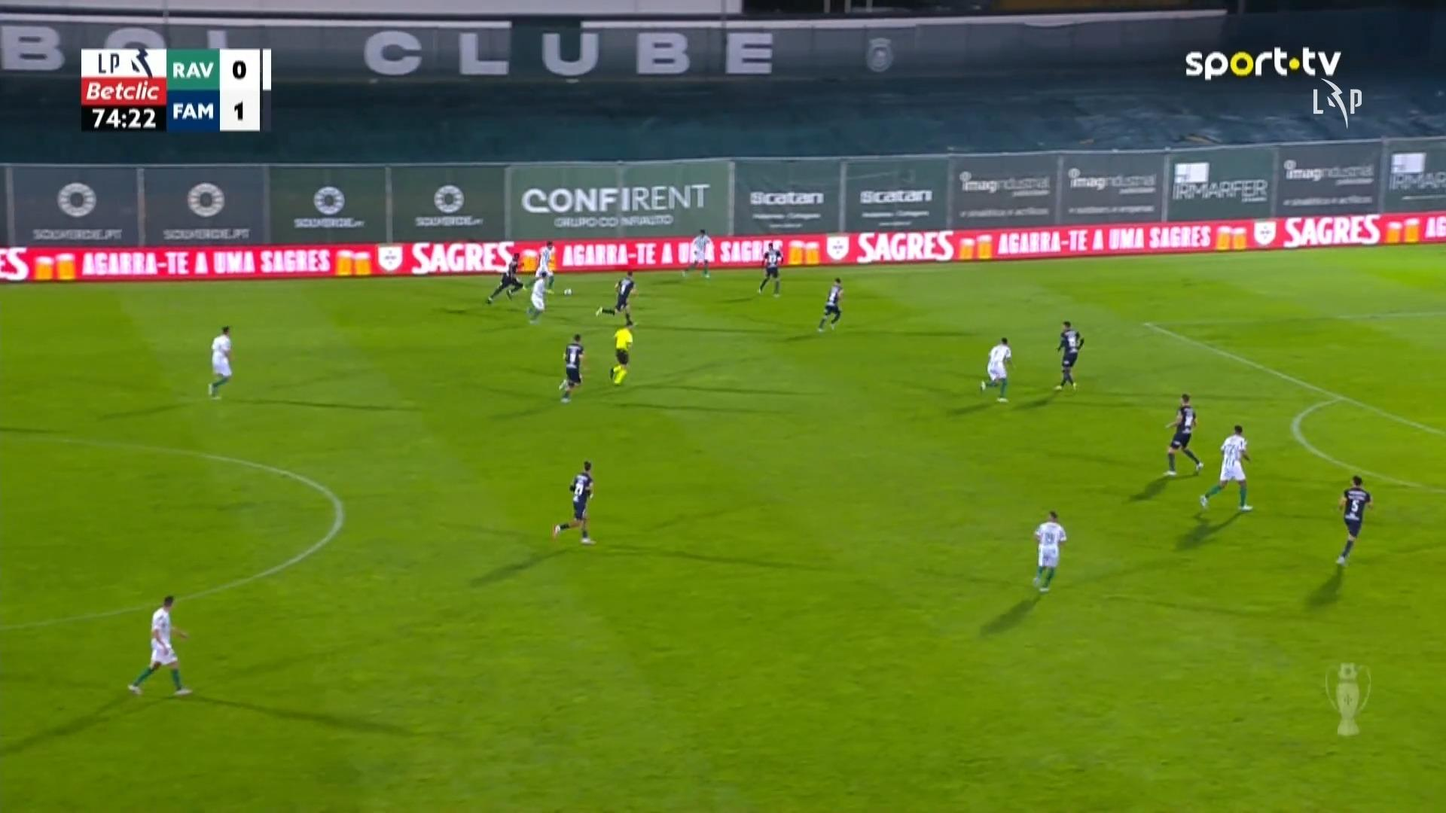ball: (563, 288, 572, 295)
player: (127, 594, 193, 696), (1198, 424, 1252, 512), (551, 459, 597, 544), (1335, 473, 1373, 565), (1163, 392, 1203, 477), (1032, 510, 1066, 592), (593, 269, 637, 327), (979, 336, 1012, 403), (485, 251, 524, 304), (1054, 319, 1083, 389), (207, 325, 233, 399), (558, 333, 584, 403), (681, 228, 712, 279), (816, 276, 844, 332), (756, 239, 782, 297), (526, 268, 548, 324), (535, 239, 556, 294)
referee: (609, 321, 634, 385)
